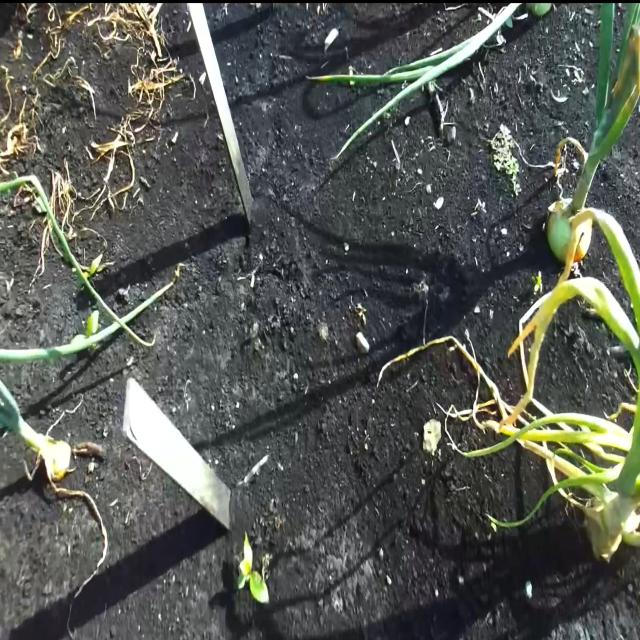onion: (549, 200, 594, 260)
